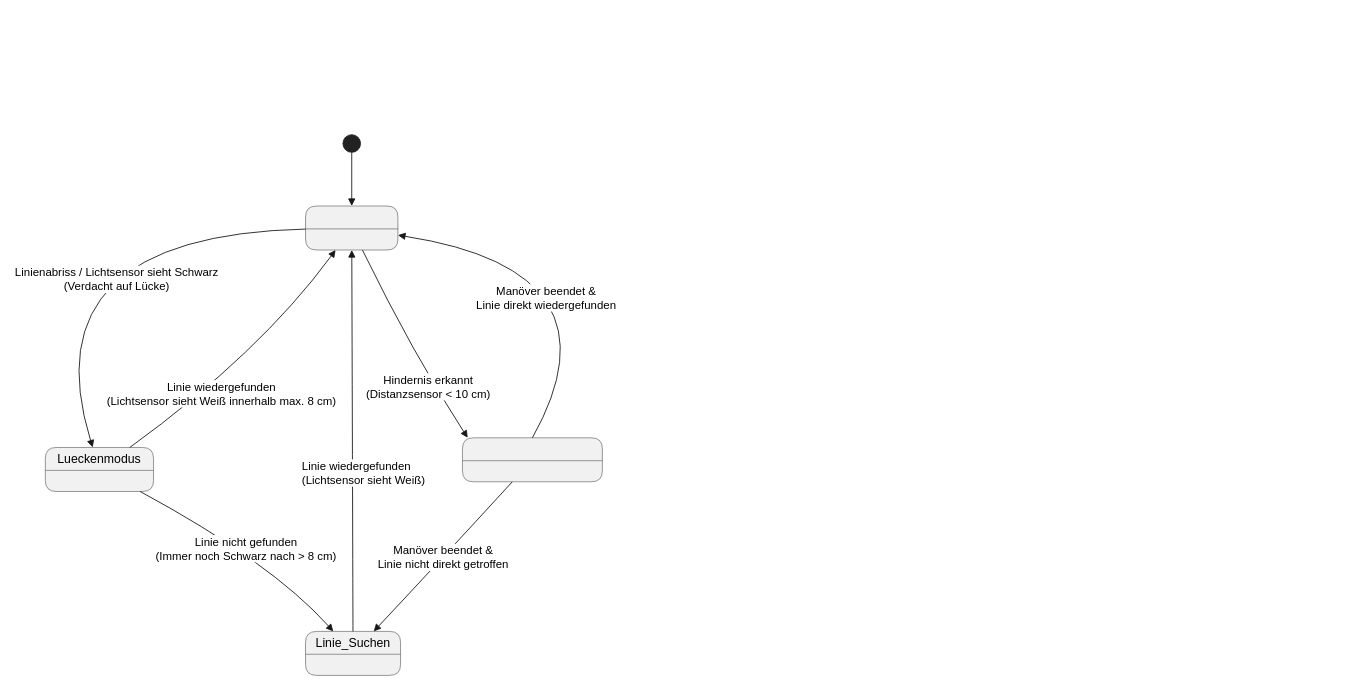
The diagram is 1346 pixels wide and 691 high, and some of its shapes have lost their labels. The box of each missing label's shape, as (x1, y1, x2, y2) in pixels:
Hindernis_Umfahren: (462, 437, 602, 482)
Linie_Folgen: (305, 205, 398, 250)
